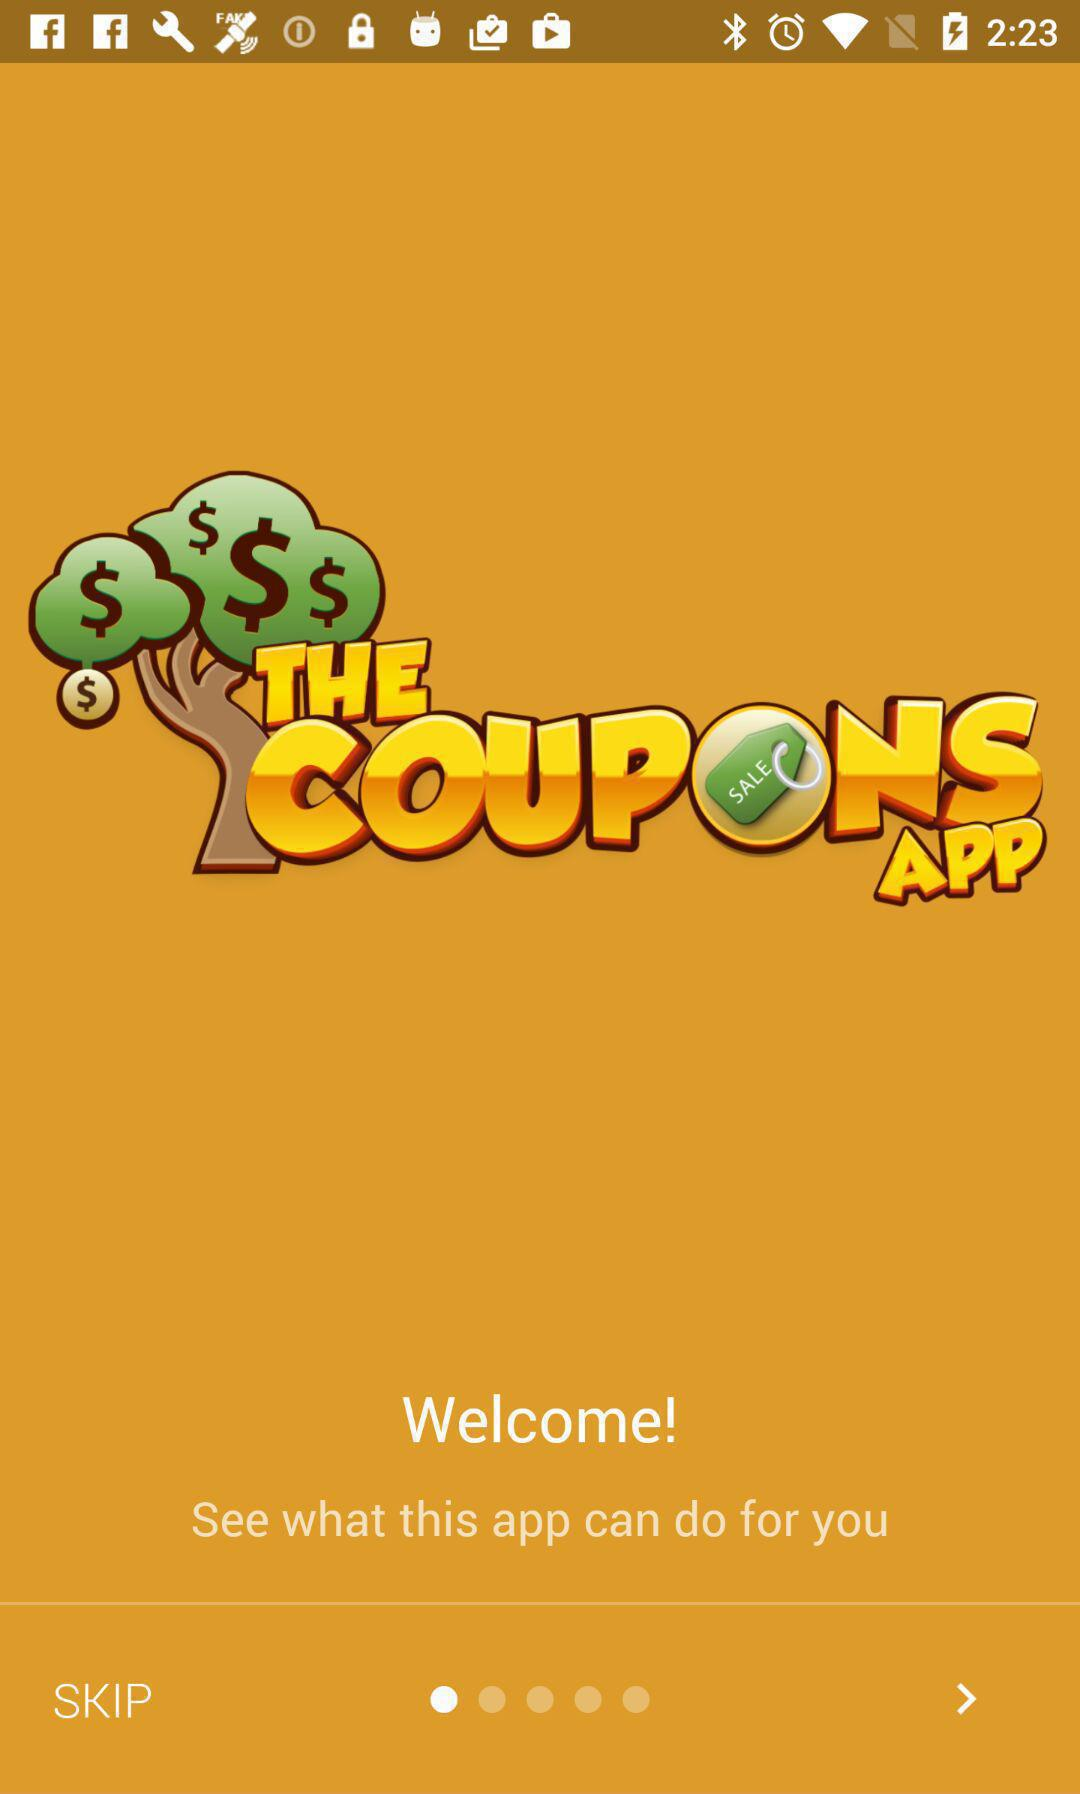Icon: (954, 1683, 978, 1716)
Image: (26, 468, 1047, 905)
PageIndicator: (429, 1684, 652, 1715)
Text: (192, 1499, 887, 1548), (402, 1393, 676, 1444), (55, 1683, 152, 1720)
UpperTaskBar: (1, 1, 1080, 64)
